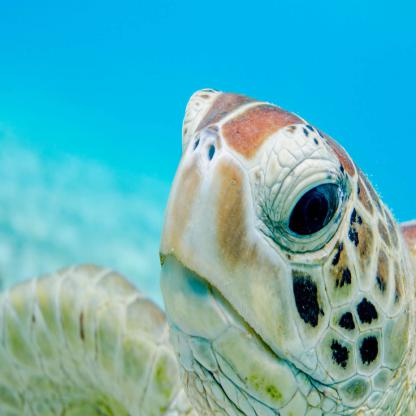turtle: (154, 80, 416, 416)
